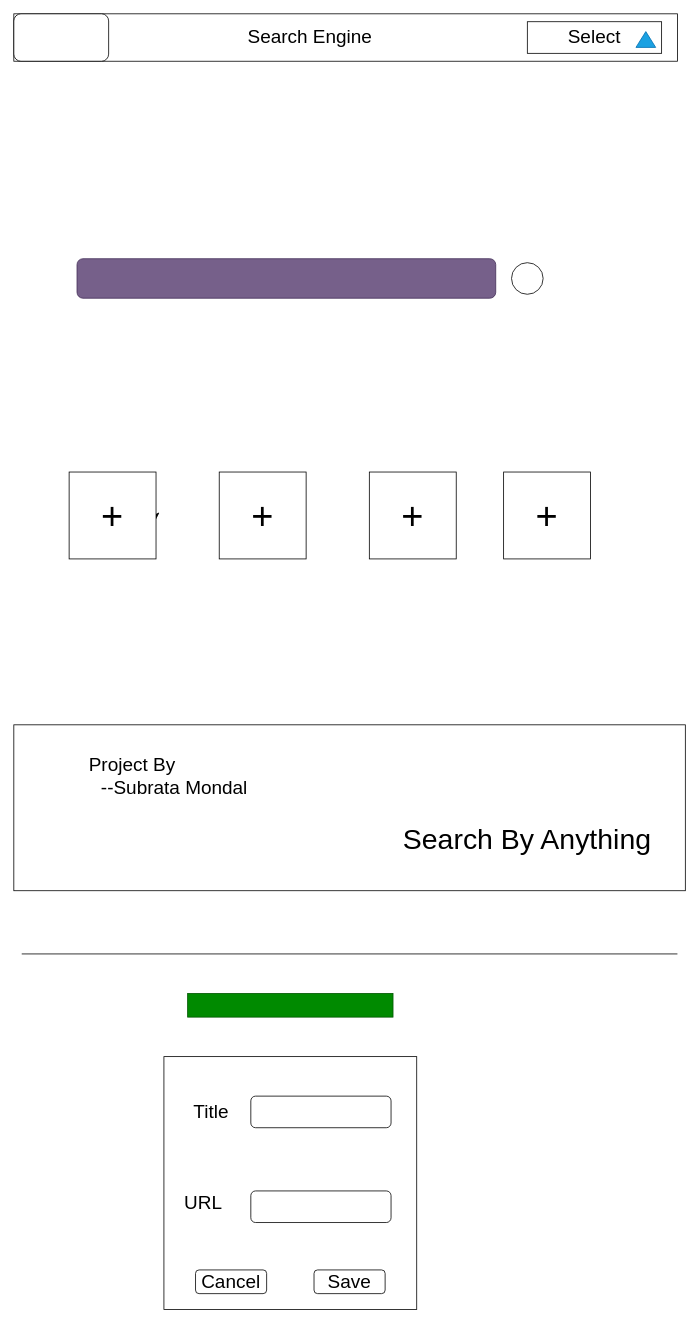
This 699x1323 diagram has some shape labels left out. The shapes that lost their labels are listed below. From the top down, each one's centre as x and y in pixels, then its label:
(x=61, y=37): logo
(x=527, y=278): search
(x=290, y=1005): Shortcut PopUp
